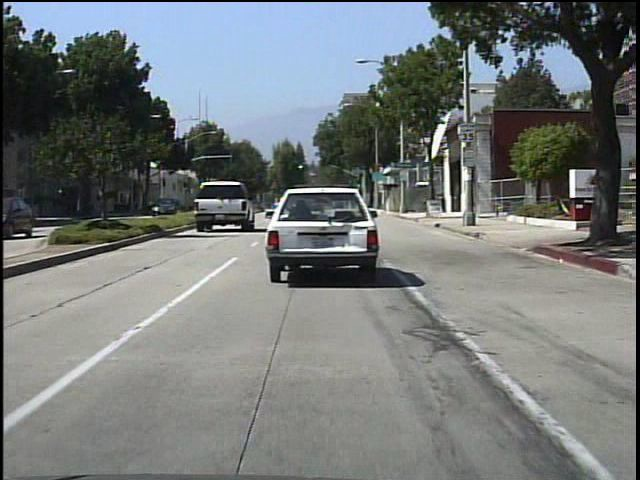person: (148, 196, 156, 216), (104, 193, 109, 220)
